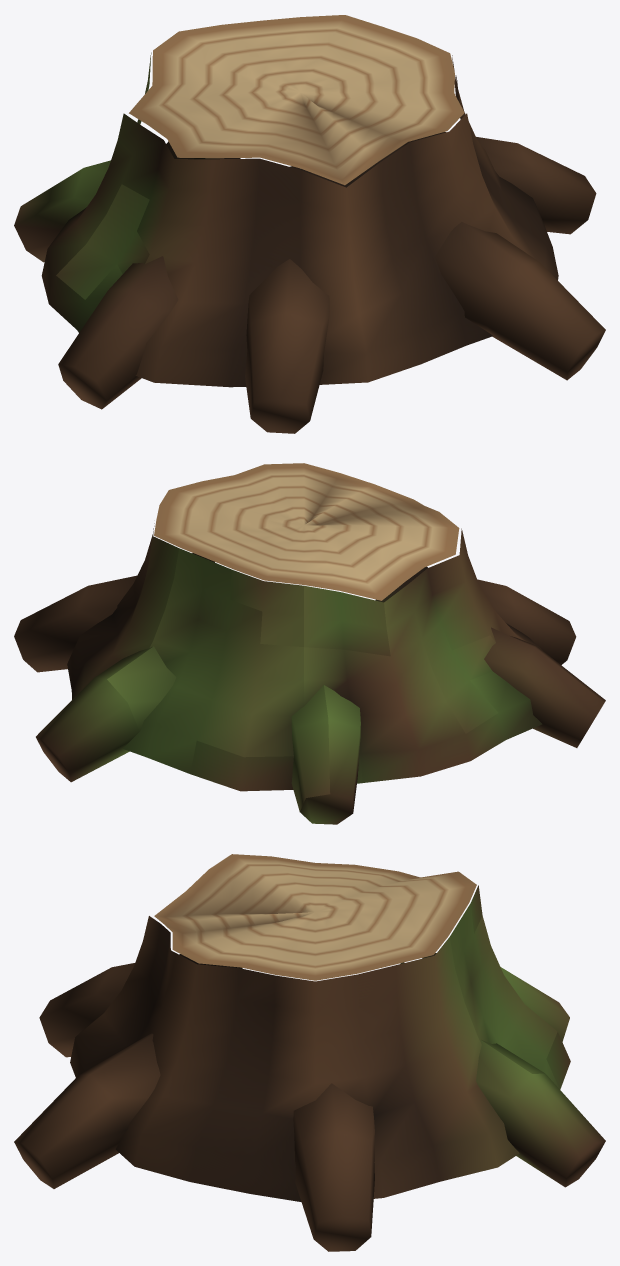
The model's file is tree-big-stump-v3.glb.
3 views of the same model, one above another, from view 1: azimuth 30°, elevation 25°; view 2: azimuth 150°, elevation 25°; view 3: azimuth 270°, elevation 25° (orthographic). The views are drawn at different scales.
Parts seen in each view (by area): view 1: 0_stump; view 2: 0_stump; view 3: 0_stump.
Boxes of the visible parts, x1,y1,x2,y2 form: 0_stump: (14,15,605,433); 0_stump: (14,463,605,824); 0_stump: (14,854,605,1251).
Size of the model in its own units: 3.2 by 1.18 by 2.9.
